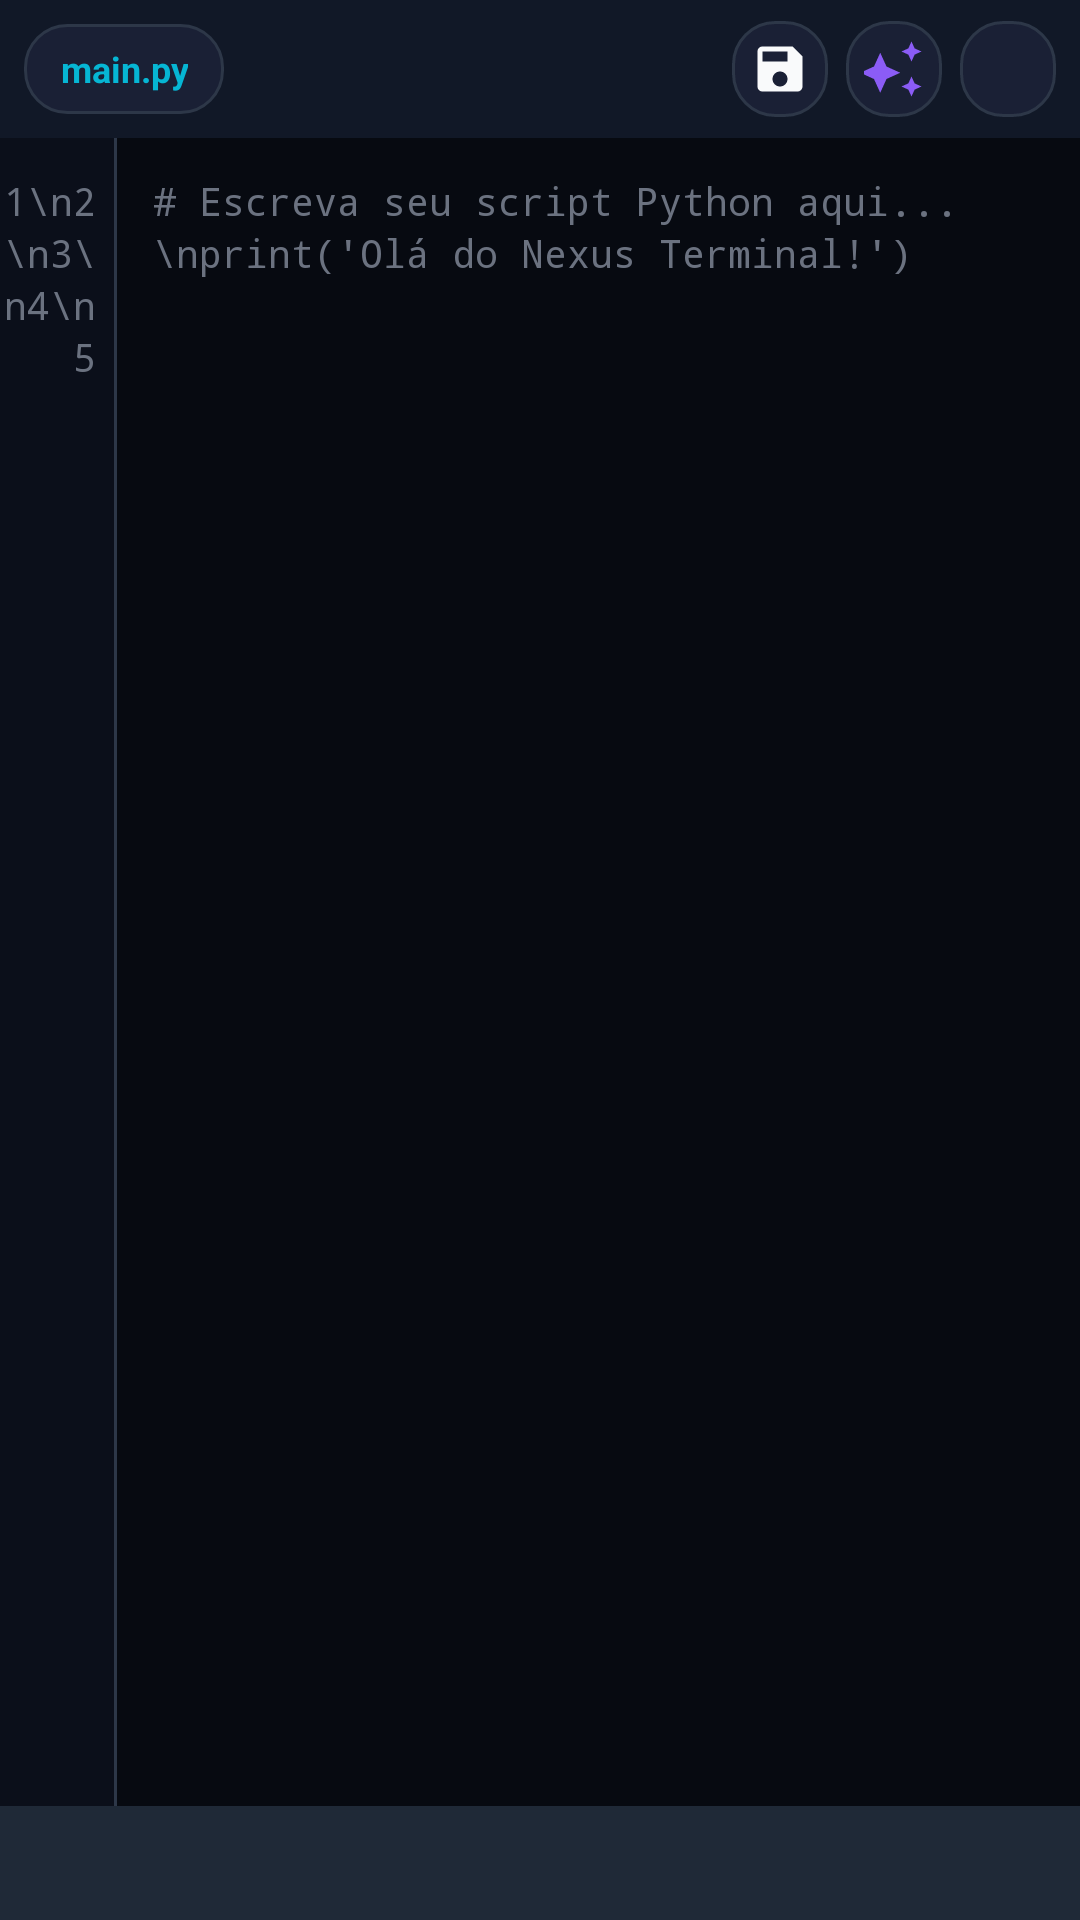

Locate icon controls on the screen. Image size 1080*1920, boxes as region(x1, y1, x2, y2).
AI Code: region(846, 21, 942, 117)
Salvar: region(732, 21, 828, 117)
